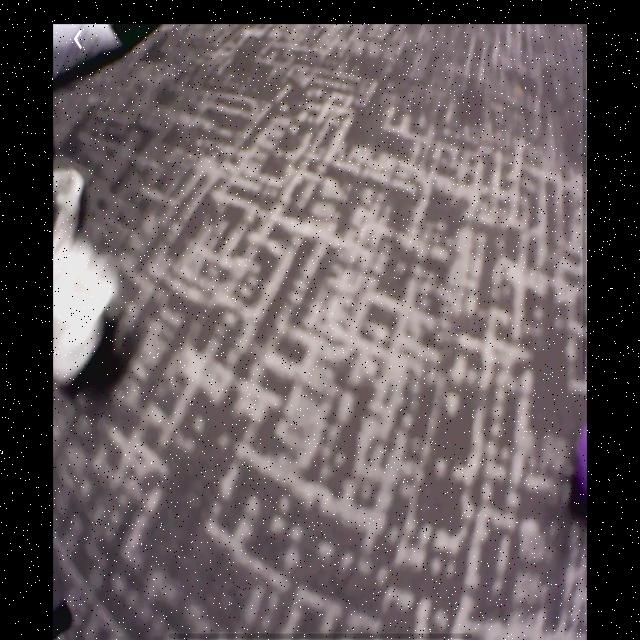ball: (578, 426, 590, 491)
